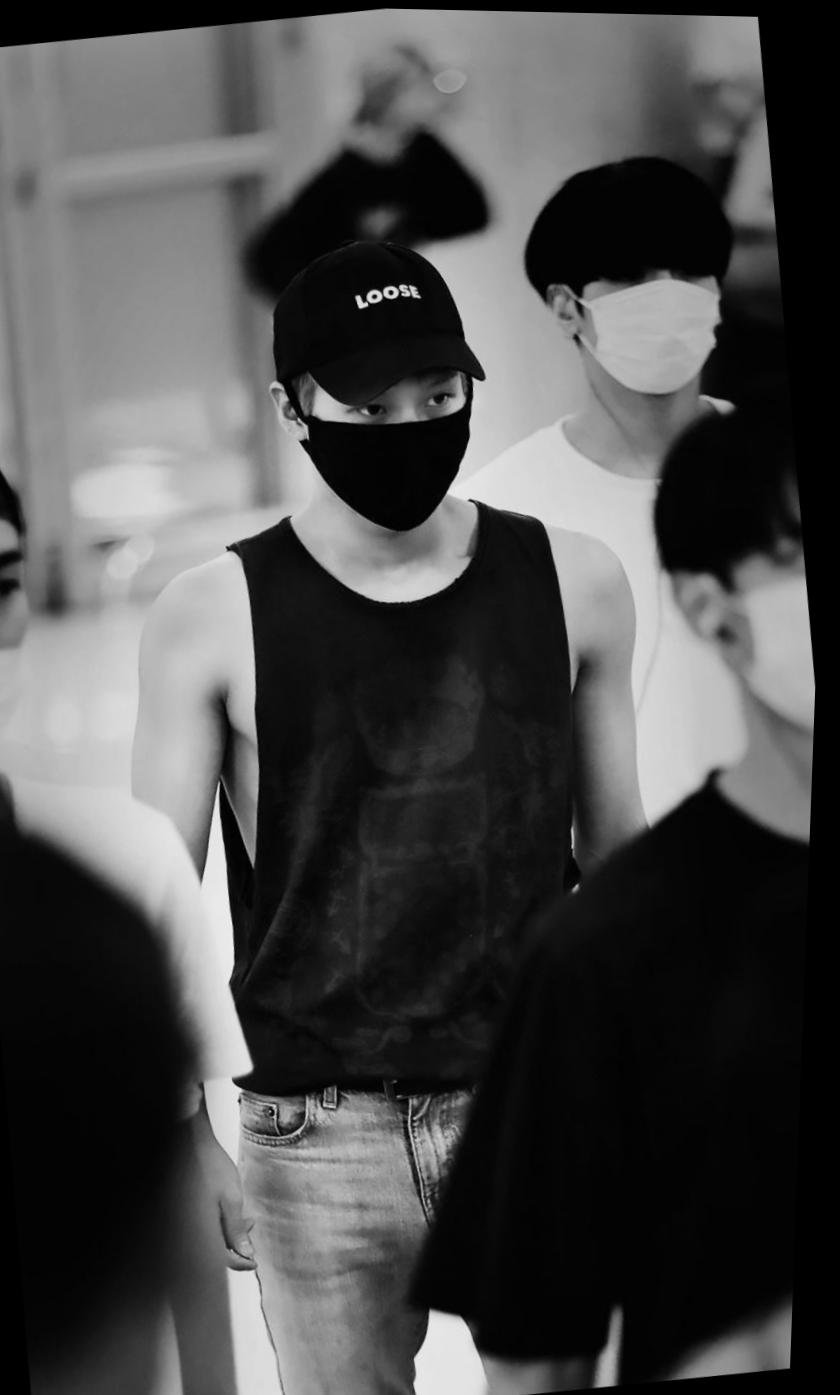OK: (296, 350, 475, 527), (569, 230, 738, 400), (717, 511, 826, 748)
WRONG: (1, 523, 68, 772)
